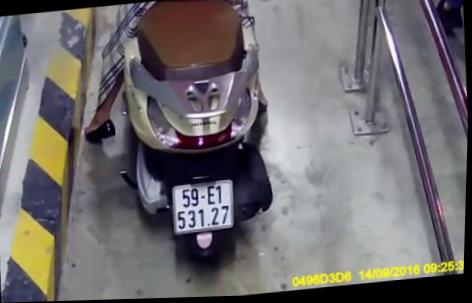LP: (171, 180, 237, 235)
